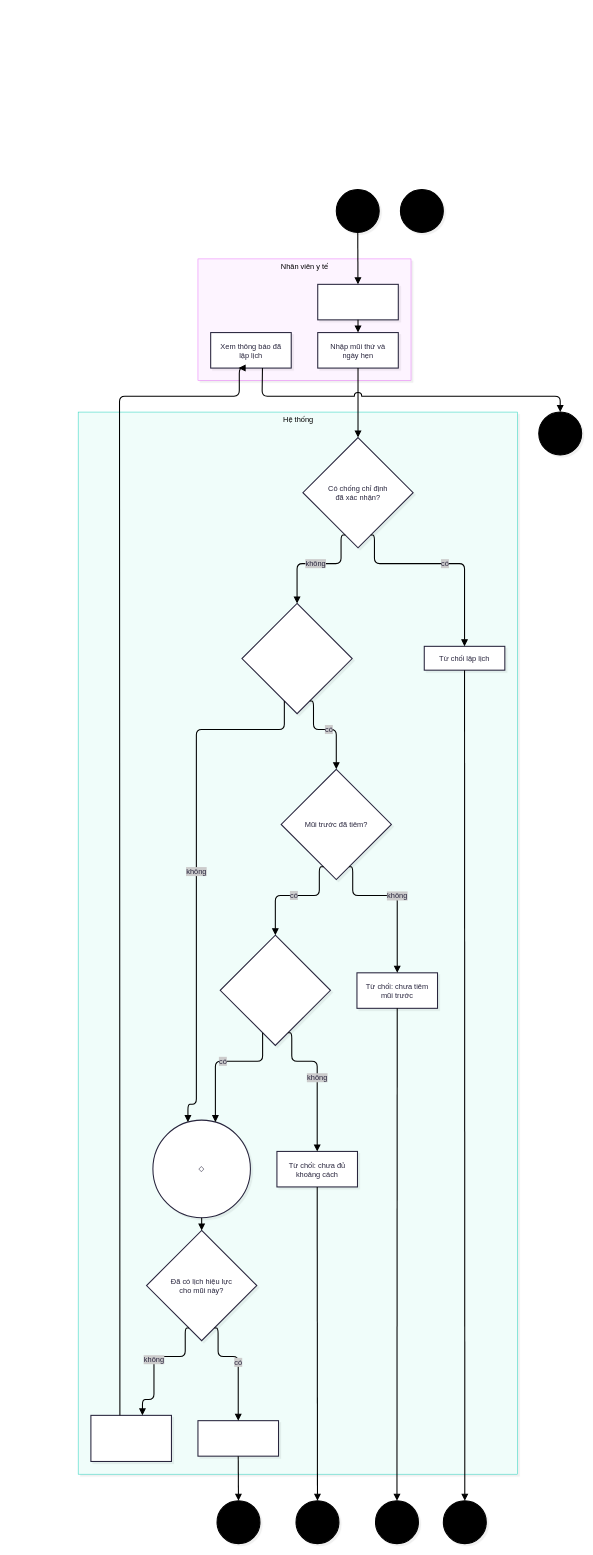
Some shapes in this 593 by 1555 pixel diagram are drawn without their labels. Each missing label, with the centre of its shape:
Chọn người tiêm và vaccine: the point at 359,303
Mũi thứ > 1?: the point at 298,659
Ngày hẹn >= ngày tiêm trước + khoảng cách?: the point at 276,991
Tạo LichTiem trạng thái ChoTiem: the point at 132,1439
Từ chối: trùng lịch: the point at 239,1439
